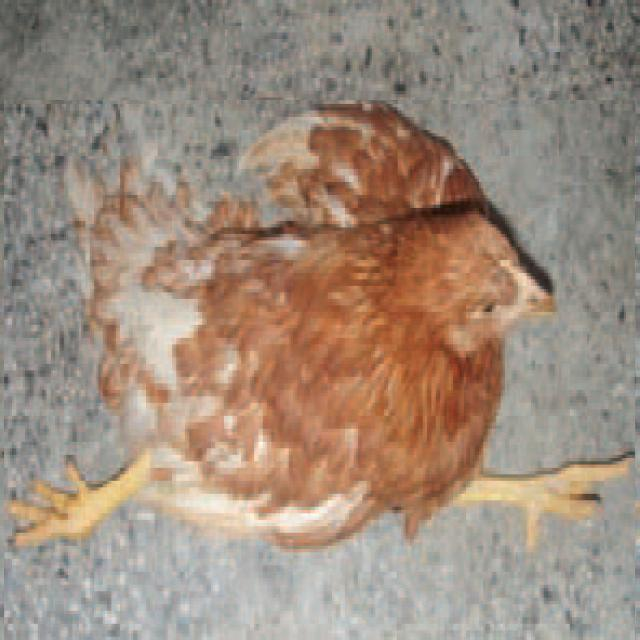AbNormal: (20, 104, 628, 553)
